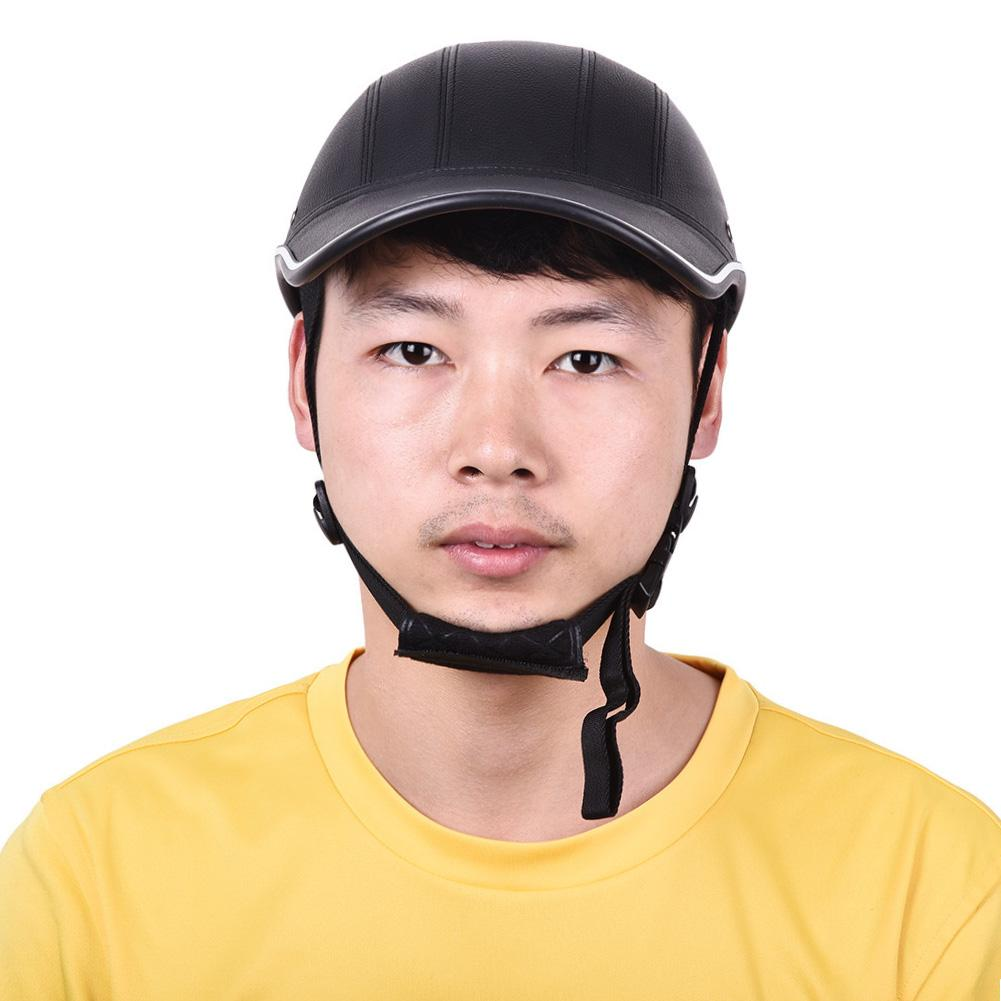helmet: (269, 23, 751, 364)
